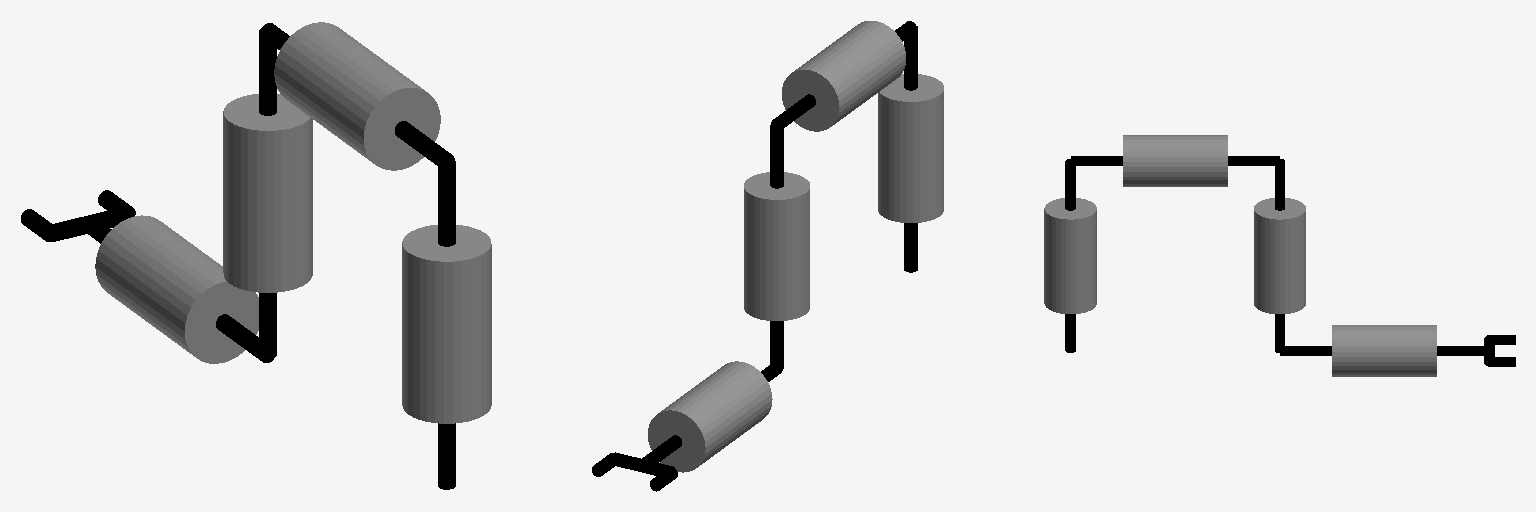
The robot description file, URDF, robot "FourDOF":
<?xml version="1.0"?>

<robot name="FourDOF">
  
  <!-- *************************************************** -->
  <!-- ******************** Kinematics ******************* -->
  <!-- *************************************************** -->
  <!-- Note the 'origin' tag in the joints defines the
       shift and reorientation before the continuous joint
       rotates around the 'axis'. -->

  <link name="world"/>

  <joint name="initial" type="fixed">
    <parent   link="world"/>
    <child    link="link0"/>
    <origin   xyz="0 0 0" rpy="0 0 0"/>
  </joint>

  <link name="link0">
    <!-- This isn't moving.  Just to be consistent, show motor 1. -->
    <inertial>
      <origin xyz="0 0 0.2" rpy="0 0 0"/>
      <mass value="1.0"/>
      <inertia
        ixx="0.003" ixy="0.0" ixz="0.0"
        iyy="0.003" iyz="0.0"
        izz="0.001"/>
    </inertial>
  </link>

  <joint name="theta1" type="continuous">
    <parent   link="world"/>
    <child    link="link1"/>
    <origin   xyz="0 0 0.4" rpy="0 0 0"/>
    <axis     xyz="0 0 1"/>
    <dynamics damping="0.05"/>
  </joint>

  <link name="link1">
    <!-- Assume the rods are light, include only motor 2. -->
    <inertial>
      <origin xyz="0 0.2 0" rpy="0 0 0"/>
      <mass value="1.0"/>
      <inertia
        ixx="0.003" ixy="0.0" ixz="0.0"
        iyy="0.001" iyz="0.0"
        izz="0.003"/>
    </inertial>
  </link>

  <joint name="theta2" type="continuous">
    <parent   link="link1"/>
    <child    link="link2"/>
    <origin   xyz="0 0.4 0" rpy="0 0 0"/>
    <axis     xyz="0 1 0"/>
    <dynamics damping="0.05"/>
  </joint>

  <link name="link2">
    <!-- Assume the rods are light, include only motor 3. -->
    <inertial>
      <origin xyz="0 0 -0.2" rpy="0 0 0"/>
      <mass value="1.0"/>
      <inertia
        ixx="0.003" ixy="0.0" ixz="0.0"
        iyy="0.003" iyz="0.0"
        izz="0.001"/>
    </inertial>
  </link>

  <joint name="theta3" type="continuous">
    <parent   link="link2"/>
    <child    link="link3"/>
    <origin   xyz="0 0 -0.4" rpy="0 0 0"/>
    <axis     xyz="0 0 -1"/>
    <dynamics damping="0.05"/>
  </joint>

  <link name="link3">
    <!-- Assume the rods are light, include only motor 4. -->
    <inertial>
      <origin xyz="0 0.2 0" rpy="0 0 0"/>
      <mass value="1.0"/>
      <inertia
        ixx="0.003" ixy="0.0" ixz="0.0"
        iyy="0.001" iyz="0.0"
        izz="0.003"/>
    </inertial>
  </link>

  <joint name="theta4" type="continuous">
    <parent   link="link3"/>
    <child    link="link4"/>
    <origin   xyz="0 0.4 0" rpy="0 0 0"/>
    <axis     xyz="0 1 0"/>
    <dynamics damping="0.05"/>
  </joint>

  <link name="link4">
    <!-- Assume the rods are light, include nothing. -->
    <inertial>
      <origin xyz="0 0 0" rpy="0 0 0"/>
      <mass value="0.0"/>
      <inertia
        ixx="0.0" ixy="0.0" ixz="0.0"
        iyy="0.0" iyz="0.0"
        izz="0.0"/>
    </inertial>
  </link>

  <joint name="final" type="fixed">
    <parent link="link4"/>
    <child  link="tip"/>
    <origin xyz="0 0 0" rpy="0 0 0"/>
  </joint>

  <link name="tip">
    <!-- Assume the gripper is light, include nothing. -->
    <inertial>
      <origin xyz="0 0 0" rpy="0 0 0"/>
      <mass value="0.0"/>
      <inertia
        ixx="0.0" ixy="0.0" ixz="0.0"
        iyy="0.0" iyz="0.0"
        izz="0.0"/>
    </inertial>
  </link>


  <!-- *************************************************** -->
  <!-- ******************* RVIZ Colors ******************* -->
  <!-- *************************************************** -->

  <material name="white">    <color rgba="1.00 1.00 1.00 1"/>  </material>
  <material name="gray">     <color rgba="0.60 0.60 0.60 1"/>  </material>
  <material name="table">    <color rgba="0.85 0.77 0.77 1"/>  </material>
  <material name="black">    <color rgba="0.00 0.00 0.00 1"/>  </material>

  <material name="red">      <color rgba="1.00 0.00 0.00 1"/>  </material>
  <material name="green">    <color rgba="0.00 1.00 0.00 1"/>  </material>
  <material name="blue">     <color rgba="0.00 0.00 1.00 1"/>  </material>

  <material name="cyan">     <color rgba="0.00 1.00 1.00 1"/>  </material>
  <material name="magenta">  <color rgba="1.00 0.00 1.00 1"/>  </material>
  <material name="yellow">   <color rgba="1.00 1.00 0.00 1"/>  </material>

  <material name="orange">   <color rgba="1.00 0.65 0.00 1"/>  </material>


  <!-- *************************************************** -->
  <!-- ************* Visual Building Blocks ************** -->
  <!-- *************************************************** -->

  <!-- *** Attach to Link 0 (World): Pre Motor 1 Rod, Motor 1 *** -->

  <joint name="attach-pre1rod" type="fixed">
    <parent link="link0"/>
    <child  link="pre1rod"/>
  </joint>
  <link name="pre1rod">
    <visual>
      <origin xyz="0 0 0.05" rpy="0 0 0"/>
      <geometry>
	<cylinder length="0.1" radius="0.01"/>
      </geometry>
      <material name="black"/>
    </visual>
  </link>

  <joint name="attach-motor1" type="fixed">
    <parent link="link0"/>
    <child  link="motor1"/>
  </joint>
  <link name="motor1">
    <visual>
      <origin xyz="0 0 0.2" rpy="0 0 0"/>
      <geometry>
	<cylinder length="0.2" radius="0.05"/>
      </geometry>
      <material name="gray"/>
    </visual>
  </link>

  <!-- *** Attach to Link 1: Post Motor 1, Pre Motor 2, Motor 2 *** -->

  <joint name="attach-post1rod" type="fixed">
    <parent link="link1"/>
    <child  link="post1rod"/>
  </joint>
  <link name="post1rod">
    <visual>
      <origin xyz="0 0 -0.05" rpy="0 0 0"/>
      <geometry>
	<cylinder length="0.1" radius="0.01"/>
      </geometry>
      <material name="black"/>
    </visual>
  </link>

  <joint name="attach-pre2rod" type="fixed">
    <parent link="link1"/>
    <child  link="pre2rod"/>
  </joint>
  <link name="pre2rod">
    <visual>
      <origin xyz="0 0.05 0" rpy="-1.5708 0 0"/>
      <geometry>
	<cylinder length="0.1" radius="0.01"/>
      </geometry>
      <material name="black"/>
    </visual>
  </link>

  <joint name="attach-motor2" type="fixed">
    <parent link="link1"/>
    <child  link="motor2"/>
  </joint>
  <link name="motor2">
    <visual>
      <origin xyz="0 0.2 0" rpy="-1.5708 0 0"/>
      <geometry>
	<cylinder length="0.2" radius="0.05"/>
      </geometry>
      <material name="gray"/>
    </visual>
  </link>

  <!-- *** Attach to Link 2: Post Motor 2, Pre Motor 3, Motor 3 *** -->

  <joint name="attach-post2rod" type="fixed">
    <parent link="link2"/>
    <child  link="post2rod"/>
  </joint>
  <link name="post2rod">
    <visual>
      <origin xyz="0 -0.05 0" rpy="-1.5708 0 0"/>
      <geometry>
	<cylinder length="0.1" radius="0.01"/>
      </geometry>
      <material name="black"/>
    </visual>
  </link>

  <joint name="attach-pre3rod" type="fixed">
    <parent link="link2"/>
    <child  link="pre3rod"/>
  </joint>
  <link name="pre3rod">
    <visual>
      <origin xyz="0 0 -0.05" rpy="0 0 0"/>
      <geometry>
	<cylinder length="0.1" radius="0.01"/>
      </geometry>
      <material name="black"/>
    </visual>
  </link>

  <joint name="attach-motor3" type="fixed">
    <parent link="link2"/>
    <child  link="motor3"/>
  </joint>
  <link name="motor3">
    <visual>
      <origin xyz="0 0 -0.2" rpy="0 0 0"/>
      <geometry>
	<cylinder length="0.2" radius="0.05"/>
      </geometry>
      <material name="gray"/>
    </visual>
  </link>

  <!-- *** Attach to Link 3: Post Motor 3, Pre Motor 4, Motor 4 *** -->
  
  <joint name="attach-post3rod" type="fixed">
    <parent link="link3"/>
    <child  link="post3rod"/>
  </joint>
  <link name="post3rod">
    <visual>
      <origin xyz="0 0 0.05" rpy="0 0 0"/>
      <geometry>
	<cylinder length="0.1" radius="0.01"/>
      </geometry>
      <material name="black"/>
    </visual>
  </link>

  <joint name="attach-pre4rod" type="fixed">
    <parent link="link3"/>
    <child  link="pre4rod"/>
  </joint>
  <link name="pre4rod">
    <visual>
      <origin xyz="0 0.05 0" rpy="-1.5708 0 0"/>
      <geometry>
	<cylinder length="0.1" radius="0.01"/>
      </geometry>
      <material name="black"/>
    </visual>
  </link>

  <joint name="attach-motor4" type="fixed">
    <parent link="link3"/>
    <child  link="motor4"/>
  </joint>
  <link name="motor4">
    <visual>
      <origin xyz="0 0.2 0" rpy="-1.5708 0 0"/>
      <geometry>
	<cylinder length="0.2" radius="0.05"/>
      </geometry>
      <material name="gray"/>
    </visual>
  </link>

  <!-- *** Attach to Link 4: Post Motor 4 *** -->

  <joint name="attach-post4rod" type="fixed">
    <parent link="link4"/>
    <child  link="post4rod"/>
  </joint>
  <link name="post4rod">
    <visual>
      <origin xyz="0 -0.05 0" rpy="-1.5708 0 0"/>
      <geometry>
	<cylinder length="0.1" radius="0.01"/>
      </geometry>
      <material name="black"/>
    </visual>
  </link>

  <!-- *** Attach to Tip: Left Finger, Palm Bar, Right Finger *** -->

  <joint name="attach-leftfinger" type="fixed">
    <parent link="tip"/>
    <child  link="leftfinger"/>
  </joint>
  <link name="leftfinger">
    <visual>
      <origin xyz="-0.05 0.025 0" rpy="1.5708 0 0"/>
      <geometry>
	<cylinder length="0.05" radius="0.01"/>
      </geometry>
      <material name="black"/>
    </visual>
  </link>

  <joint name="attach-rightfinger" type="fixed">
    <parent link="tip"/>
    <child  link="rightfinger"/>
  </joint>
  <link name="rightfinger">
    <visual>
      <origin xyz="0.05 0.025 0" rpy="1.5708 0 0"/>
      <geometry>
	<cylinder length="0.05" radius="0.01"/>
      </geometry>
      <material name="black"/>
    </visual>
  </link>

  <joint name="attach-palm" type="fixed">
    <parent link="tip"/>
    <child  link="palm"/>
  </joint>
  <link name="palm">
    <visual>
      <origin xyz="0 0 0" rpy="0 1.5708 0"/>
      <geometry>
	<cylinder length="0.10" radius="0.01"/>
      </geometry>
      <material name="black"/>
    </visual>
  </link>
  

  <!-- *************************************************** -->
  <!-- ******************* Gazebo Colors ***************** -->
  <!-- *************************************************** -->
  
  <gazebo reference="pre1rod">   <material>Gazebo/Black</material> </gazebo>
  <gazebo reference="motor1">    <material>Gazebo/Gray</material>  </gazebo>
  <gazebo reference="post1rod">  <material>Gazebo/Black</material> </gazebo>

  <gazebo reference="pre2rod">   <material>Gazebo/Black</material> </gazebo>
  <gazebo reference="motor2">    <material>Gazebo/Gray</material>  </gazebo>
  <gazebo reference="post2rod">  <material>Gazebo/Black</material> </gazebo>

  <gazebo reference="pre3rod">   <material>Gazebo/Black</material> </gazebo>
  <gazebo reference="motor3">    <material>Gazebo/Gray</material>  </gazebo>
  <gazebo reference="post3rod">  <material>Gazebo/Black</material> </gazebo>

  <gazebo reference="pre4rod">   <material>Gazebo/Black</material> </gazebo>
  <gazebo reference="motor4">    <material>Gazebo/Gray</material>  </gazebo>
  <gazebo reference="post4rod">  <material>Gazebo/Black</material> </gazebo>

  <gazebo reference="leftfinger">  <material>Gazebo/Black</material> </gazebo>
  <gazebo reference="rightfinger"> <material>Gazebo/Black</material> </gazebo>
  <gazebo reference="palm">        <material>Gazebo/Black</material> </gazebo>


</robot>

--- Render facts (derived) ---
The picture shows the robot from 3 angles, left to right: view 1: azimuth 30°, elevation 25°; view 2: azimuth 150°, elevation 25°; view 3: azimuth 270°, elevation 25°; orthographic projection.
Model FourDOF with 22 links and 21 joints (4 continuous, 17 fixed), rooted at world, posed every joint at zero.
Visible links, largest first — view 1: motor1, motor3, motor2, motor4, post1rod, pre3rod, pre1rod, post3rod, palm, pre2rod, pre4rod, leftfinger; view 2: motor3, motor1, motor2, motor4, pre3rod, post1rod, pre1rod, palm, post3rod, post2rod; view 3: motor1, motor3, motor2, motor4, post1rod.
Link boxes in pixels (left/top/right/bottom): motor1: left=402, top=225, right=491, bottom=423; motor3: left=223, top=94, right=312, bottom=292; motor2: left=274, top=22, right=440, bottom=170; motor4: left=95, top=215, right=258, bottom=363; post1rod: left=438, top=160, right=455, bottom=246; pre3rod: left=259, top=29, right=276, bottom=115; pre1rod: left=438, top=423, right=455, bottom=489; post3rod: left=259, top=293, right=276, bottom=358; palm: left=51, top=207, right=131, bottom=241; pre2rod: left=395, top=121, right=454, bottom=165; pre4rod: left=216, top=314, right=273, bottom=362; leftfinger: left=21, top=209, right=51, bottom=241; motor3: left=744, top=172, right=809, bottom=320; motor1: left=878, top=74, right=943, bottom=222; motor2: left=782, top=21, right=905, bottom=131; motor4: left=648, top=361, right=772, bottom=472; pre3rod: left=770, top=124, right=783, bottom=188; post1rod: left=904, top=26, right=917, bottom=90; pre1rod: left=904, top=223, right=917, bottom=272; palm: left=615, top=452, right=674, bottom=475; post3rod: left=770, top=321, right=783, bottom=368; post2rod: left=771, top=94, right=815, bottom=127; motor1: left=1044, top=198, right=1096, bottom=313; motor3: left=1254, top=198, right=1305, bottom=313; motor2: left=1123, top=135, right=1227, bottom=186; motor4: left=1332, top=325, right=1436, bottom=376; post1rod: left=1065, top=159, right=1075, bottom=210.
Size in the robot's own frame: 0.12 by 0.9 by 0.5 metres.
Geometry: primitives only (box / cylinder / sphere), no mesh files.